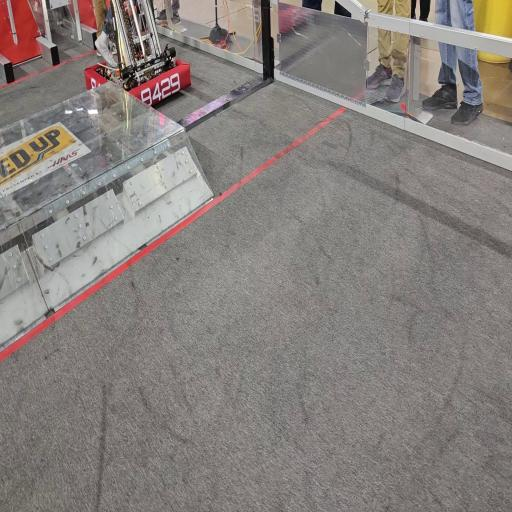robot: (88, 0, 190, 101)
